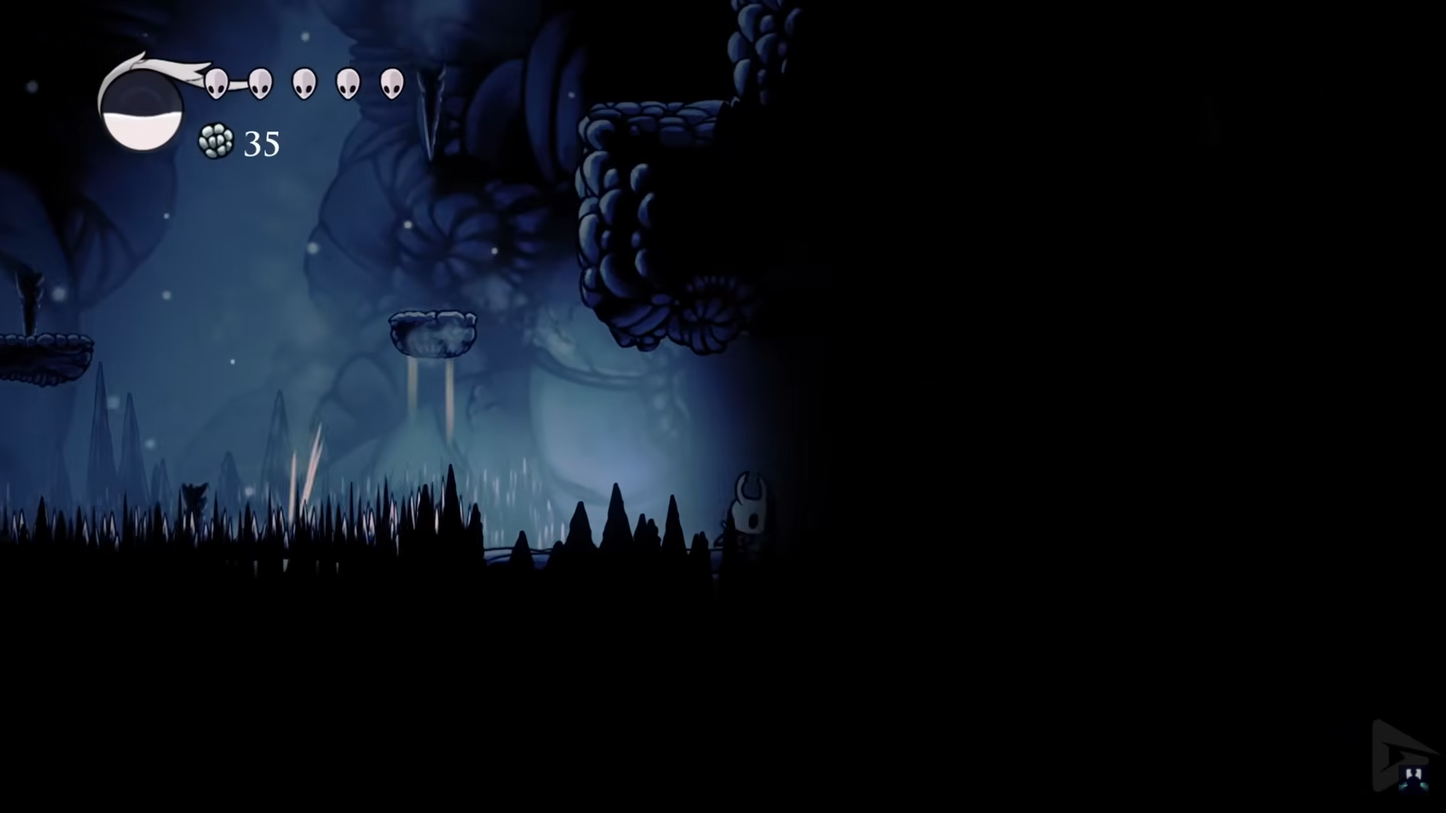HK: (722, 469, 777, 556)
